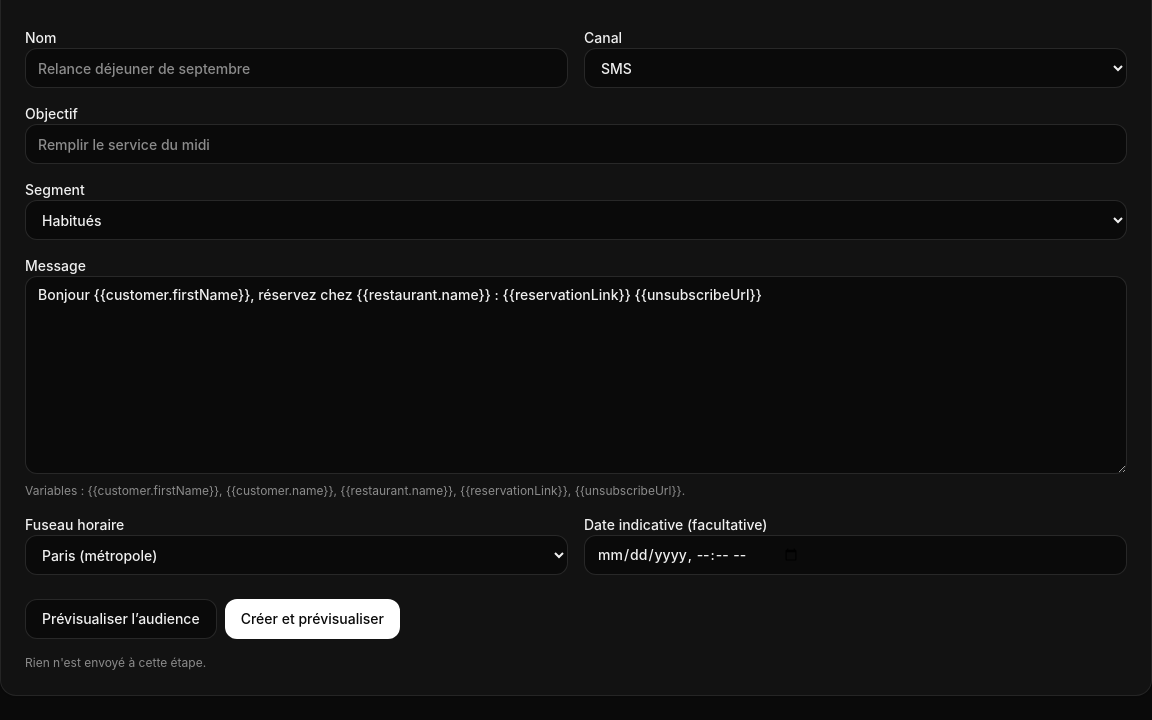
Scenario: NewMarketingCampaignPage › charge les segments et contrôle l’audience avec exclusions
This screenshot has width=1152, height=720.
(page scrolled)
Click the button "Prévisualiser l’audience" at (121, 619), box [25,599,217,639]
(page scrolled)
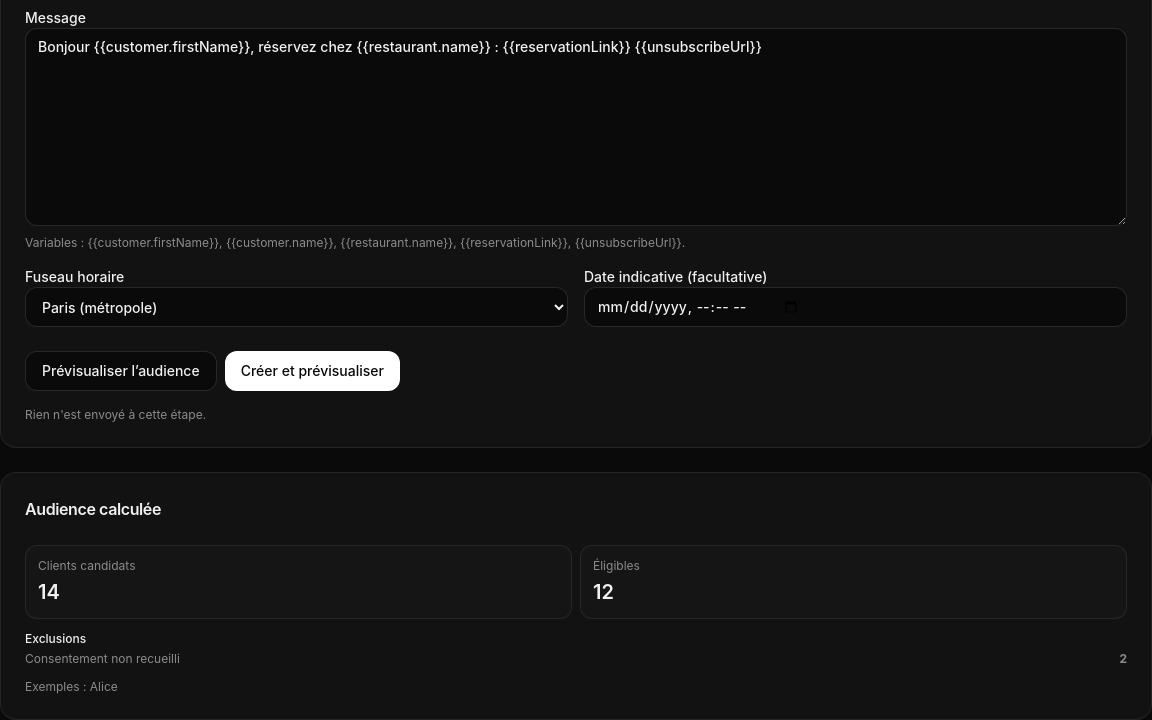
Expected: the text "Clients candidats" is shown, [38,558,136,573]
Expected: the text "12" is shown, [593,580,614,604]
Expected: the text "Consentement non recueilli" is shown, [25,651,180,667]
